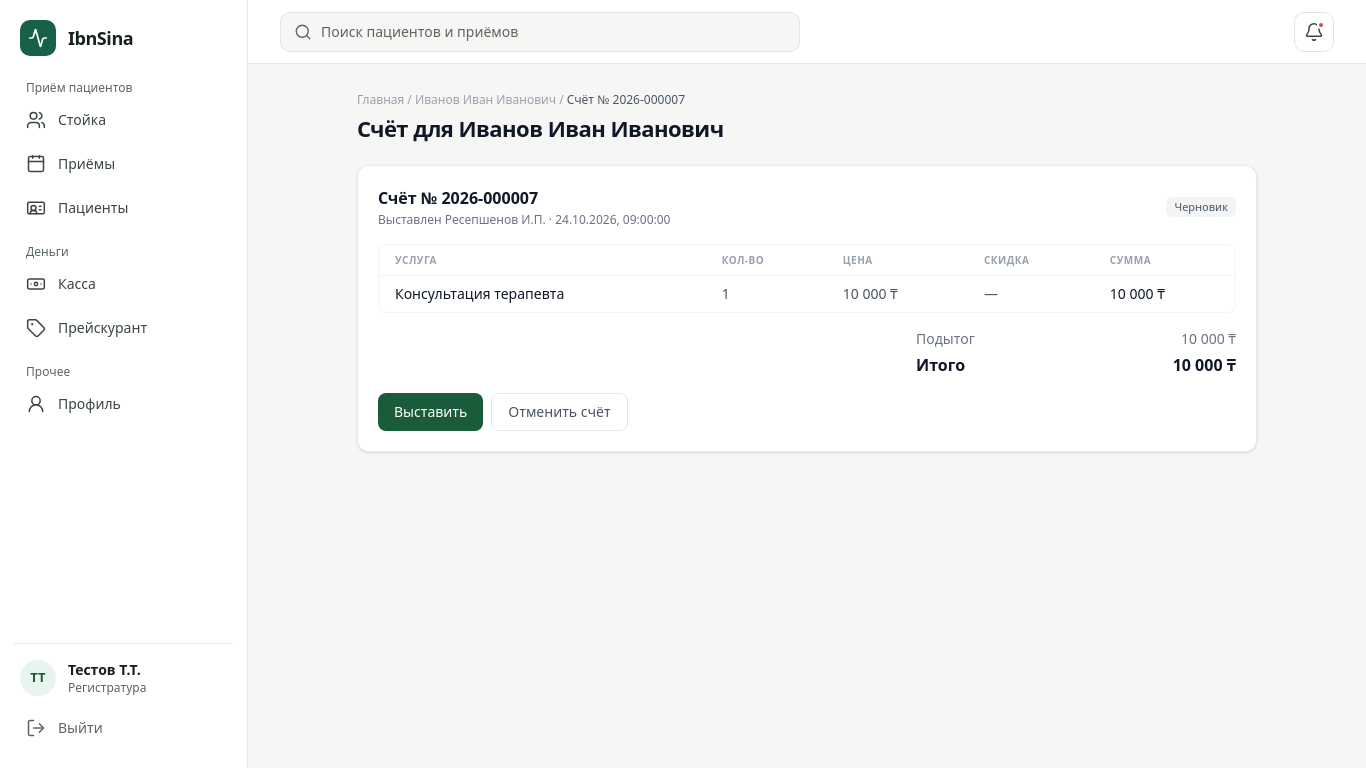
Test: счёт › черновик: не запрашивает платежи и заявки на возврат; «Выставить» перезапрашивает счёт
The image size is (1366, 768).
Click the button "Выставить". click: (431, 412)
box: [378,393,483,431]
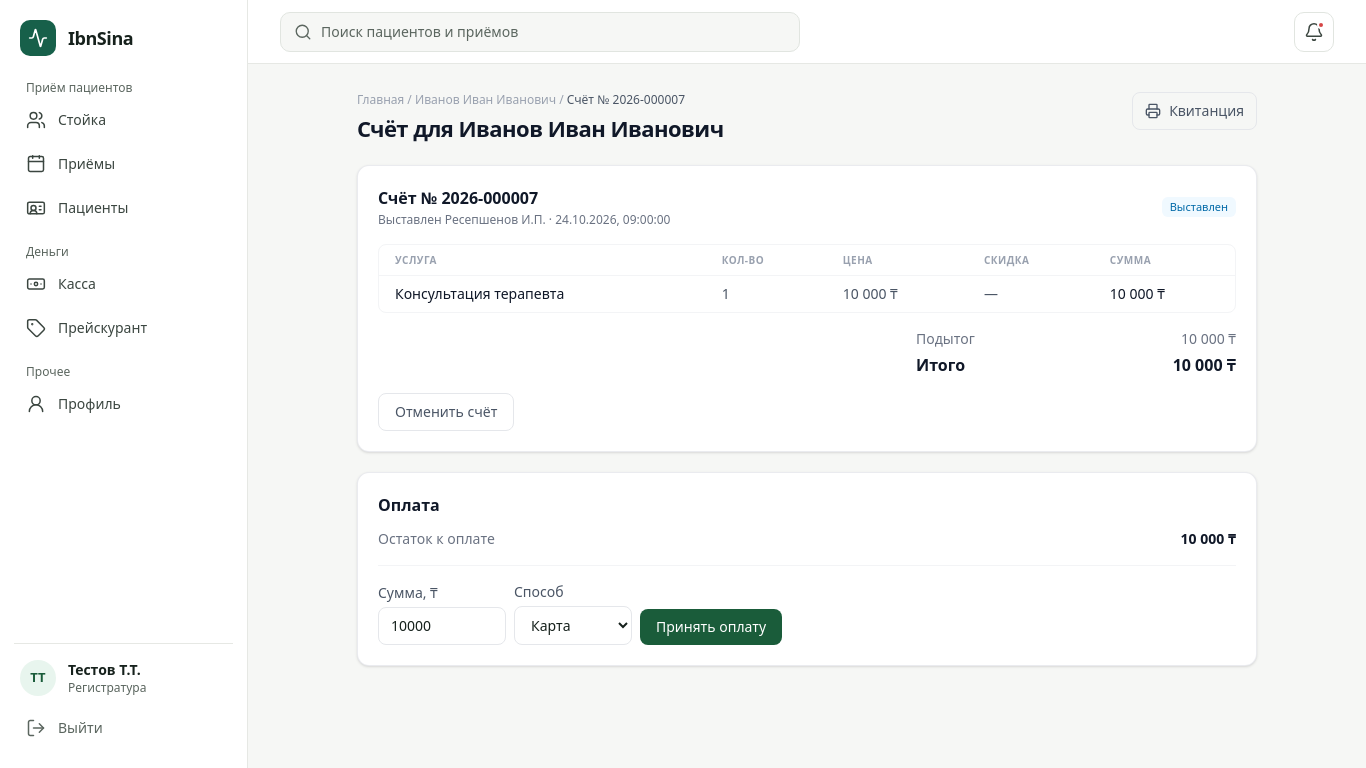
Expected: the heading "Оплата" is shown, [378,494,440,516]
